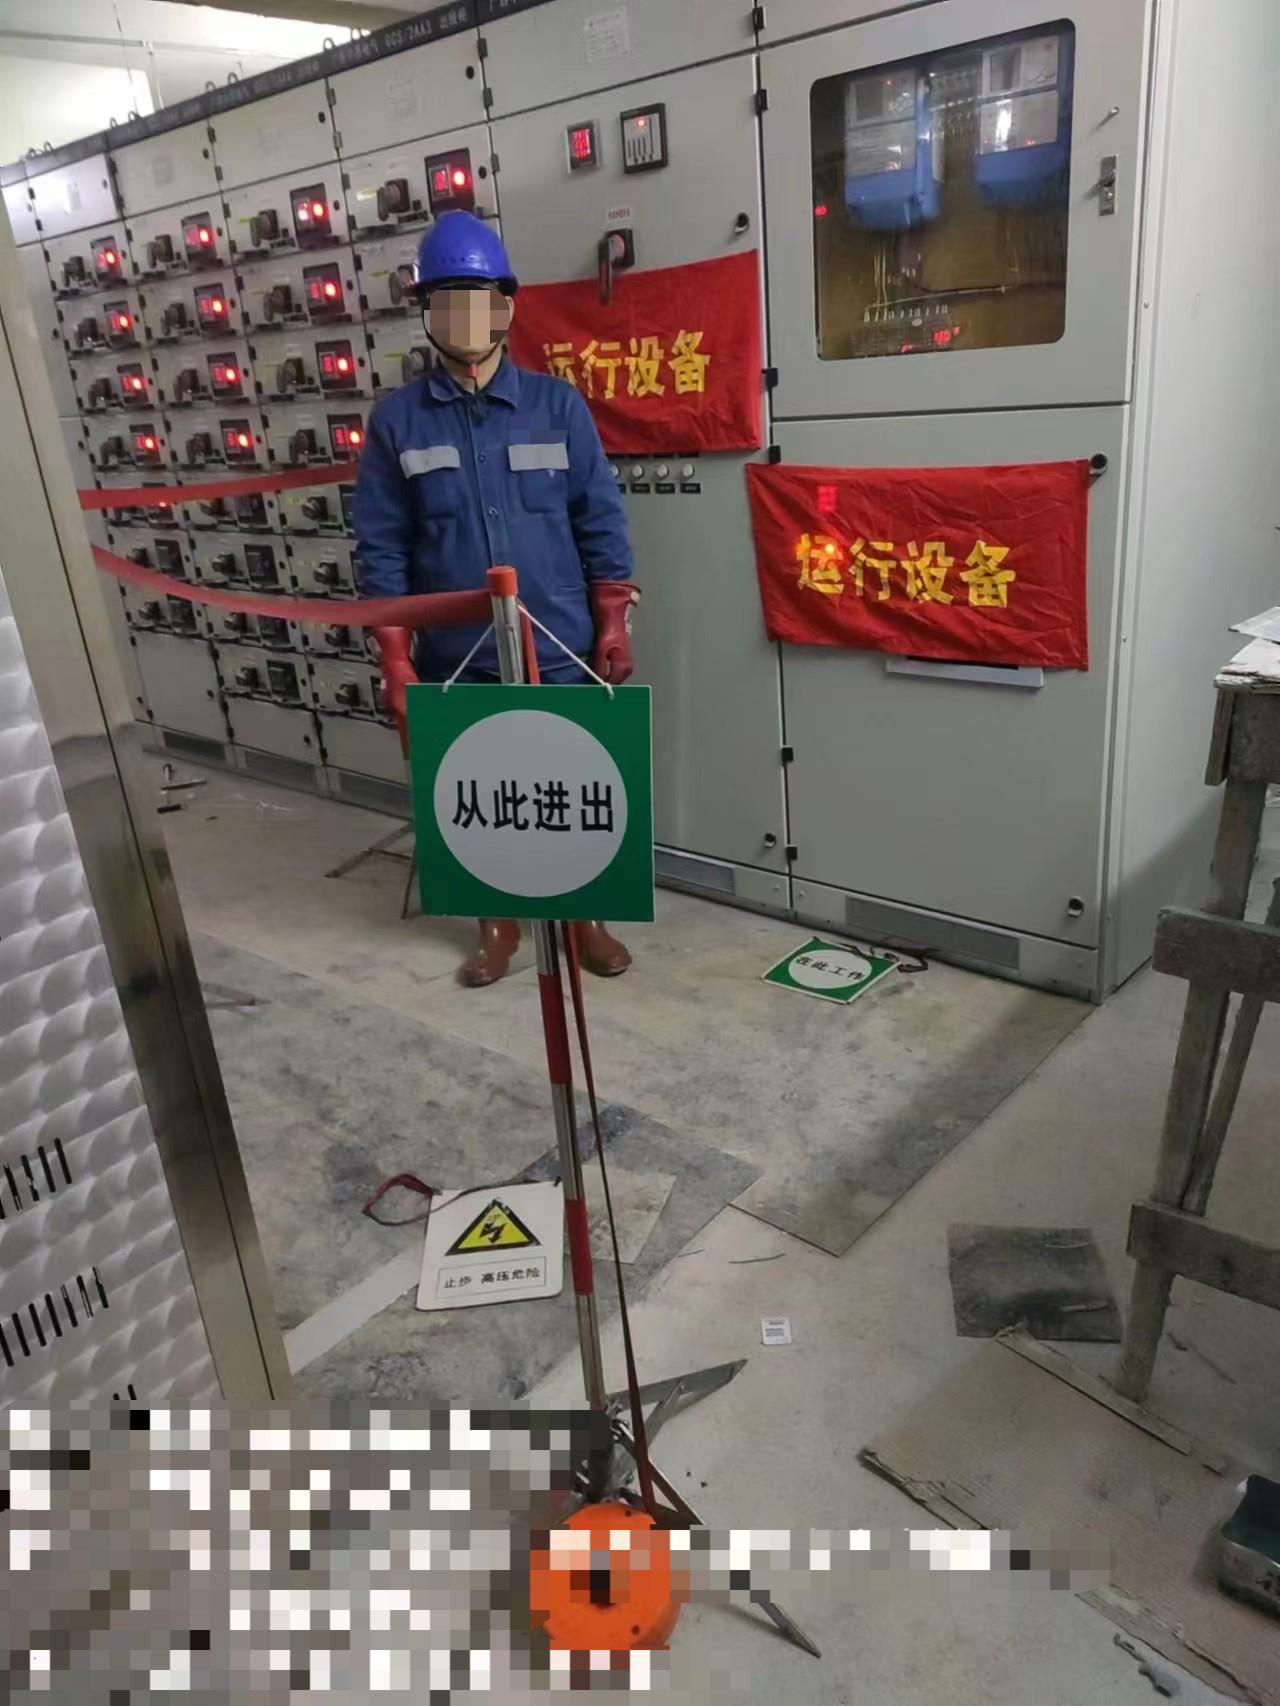halt: (405, 214, 524, 370)
inear: (479, 282, 523, 337)
